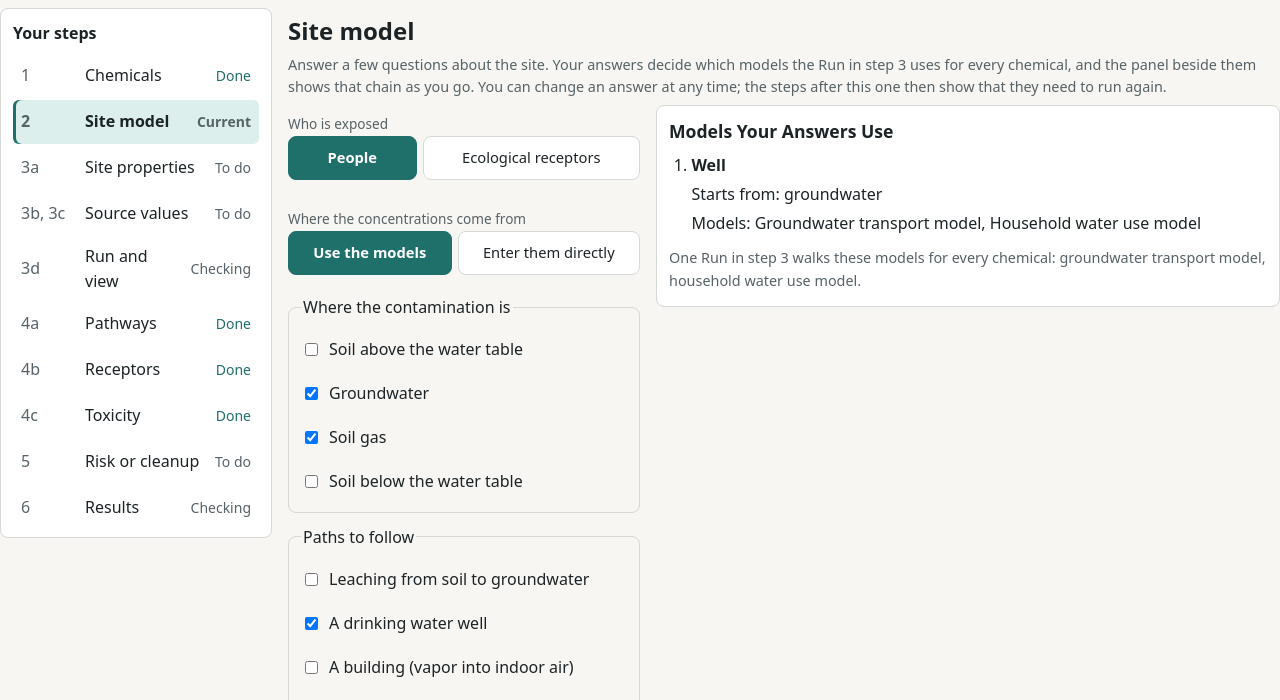
SiteStep › marks the Run step to run again when an answer changes what the Run needs
Check: the list item "3d Run and view Checking" is shown, box [13, 238, 259, 299]
Click the checkbox labelled "A building (vapor into indoor air)" at (312, 667), box [305, 661, 318, 674]
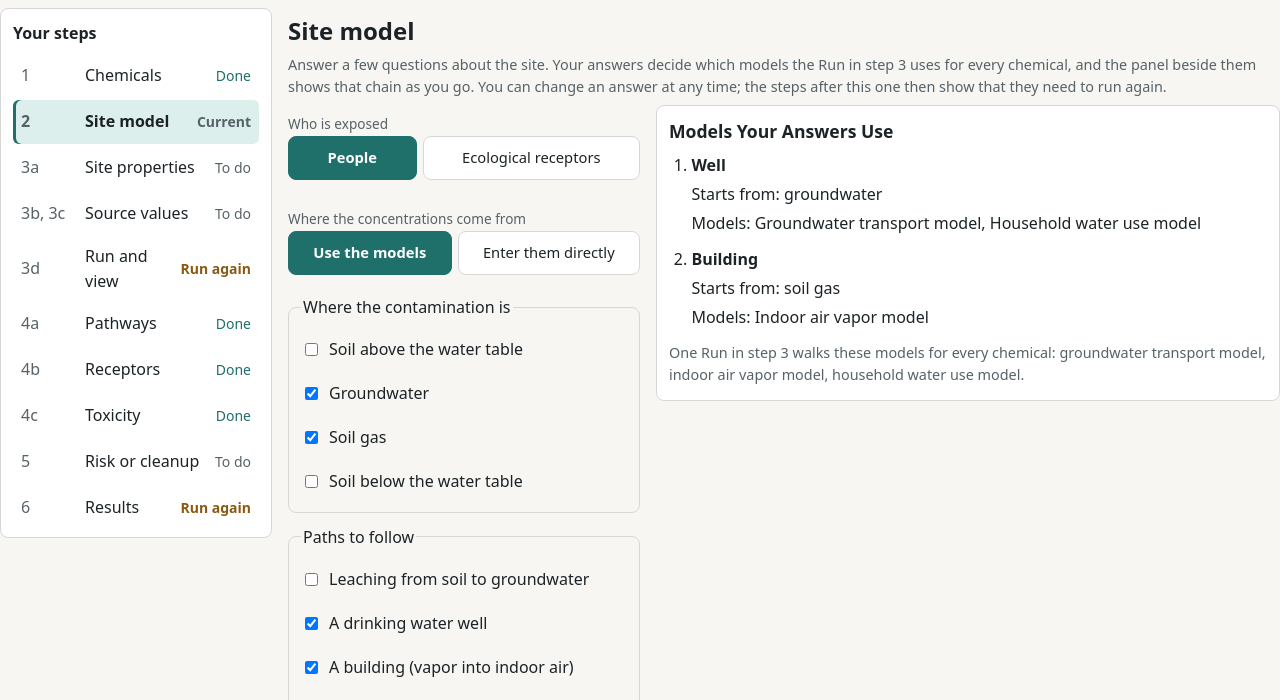
Check: the list item "3d Run and view Run again" is shown, box [13, 238, 259, 299]
